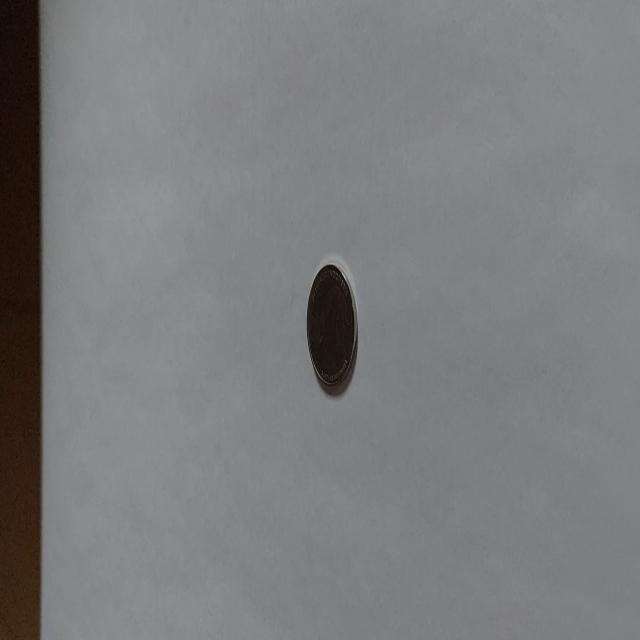seribu rupiah koin: (305, 258, 358, 391)
